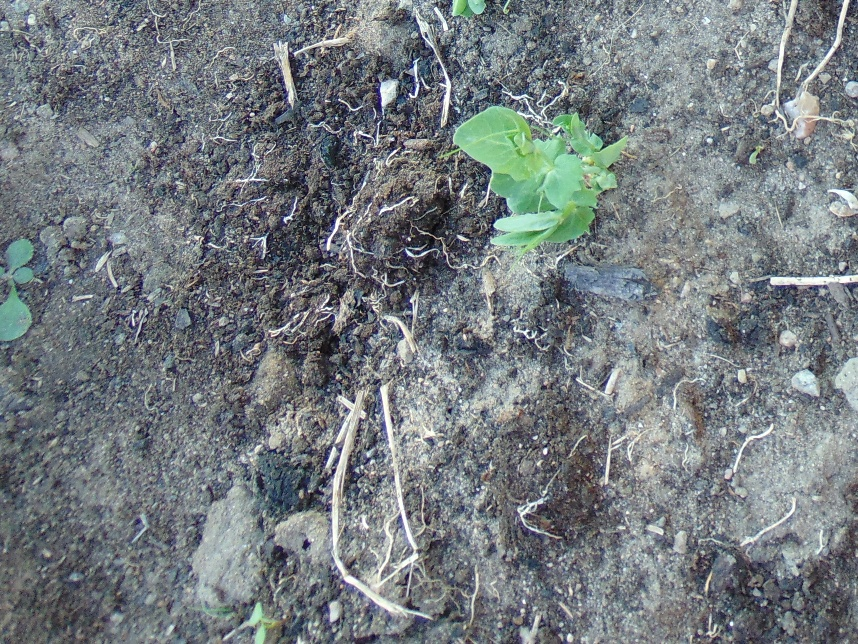crop: (444, 106, 631, 258), (446, 1, 509, 17)
weed: (1, 236, 38, 344), (195, 601, 282, 642)
